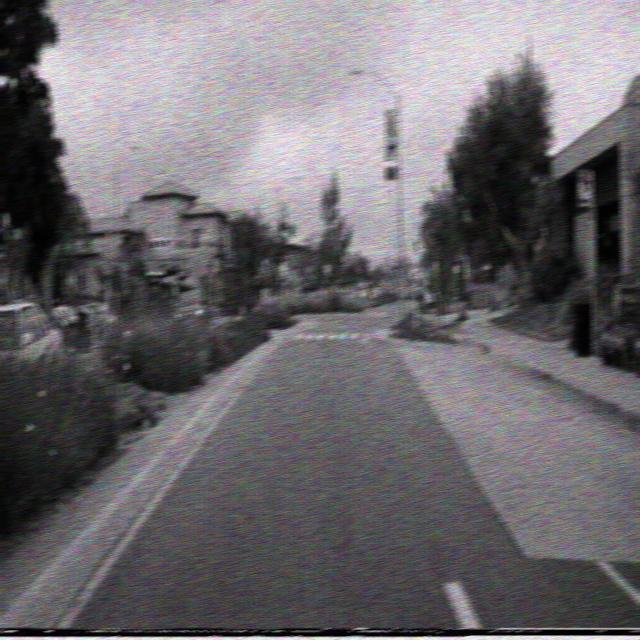pedestrianCrossing: (405, 228, 426, 266)
